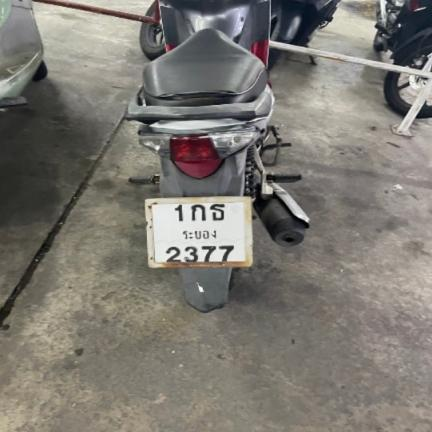1: (171, 204, 187, 222)
2: (162, 246, 182, 262)
3: (183, 246, 199, 263)
7: (217, 244, 234, 262), (200, 245, 216, 262)
A01: (190, 204, 208, 222)
A24: (209, 203, 226, 222)
RYG: (181, 228, 218, 241)
